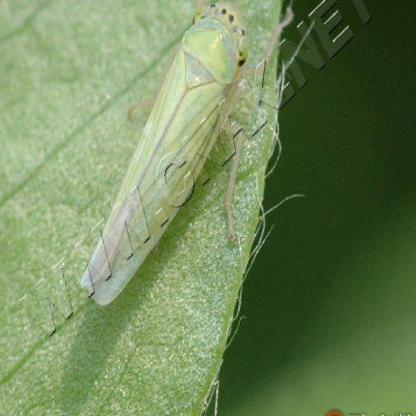Green-Leafhopper: (84, 0, 253, 308)
